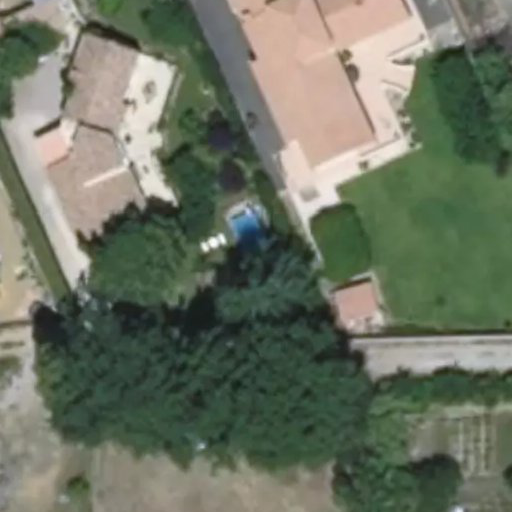pool: (226, 210, 270, 260)
